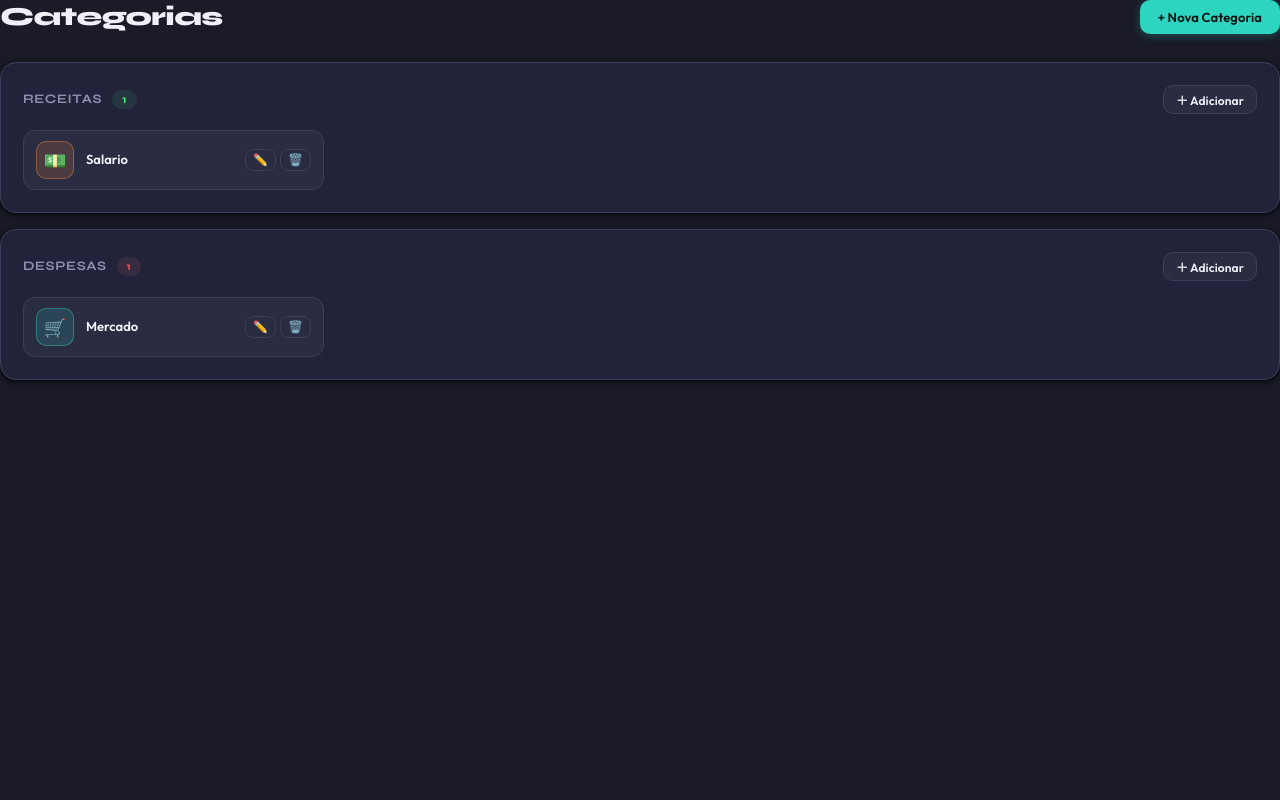
Test: CategoriesView delete confirmation › deletes only after confirming
Click the button named "Excluir Mercado": (296, 327) [280,316,311,338]
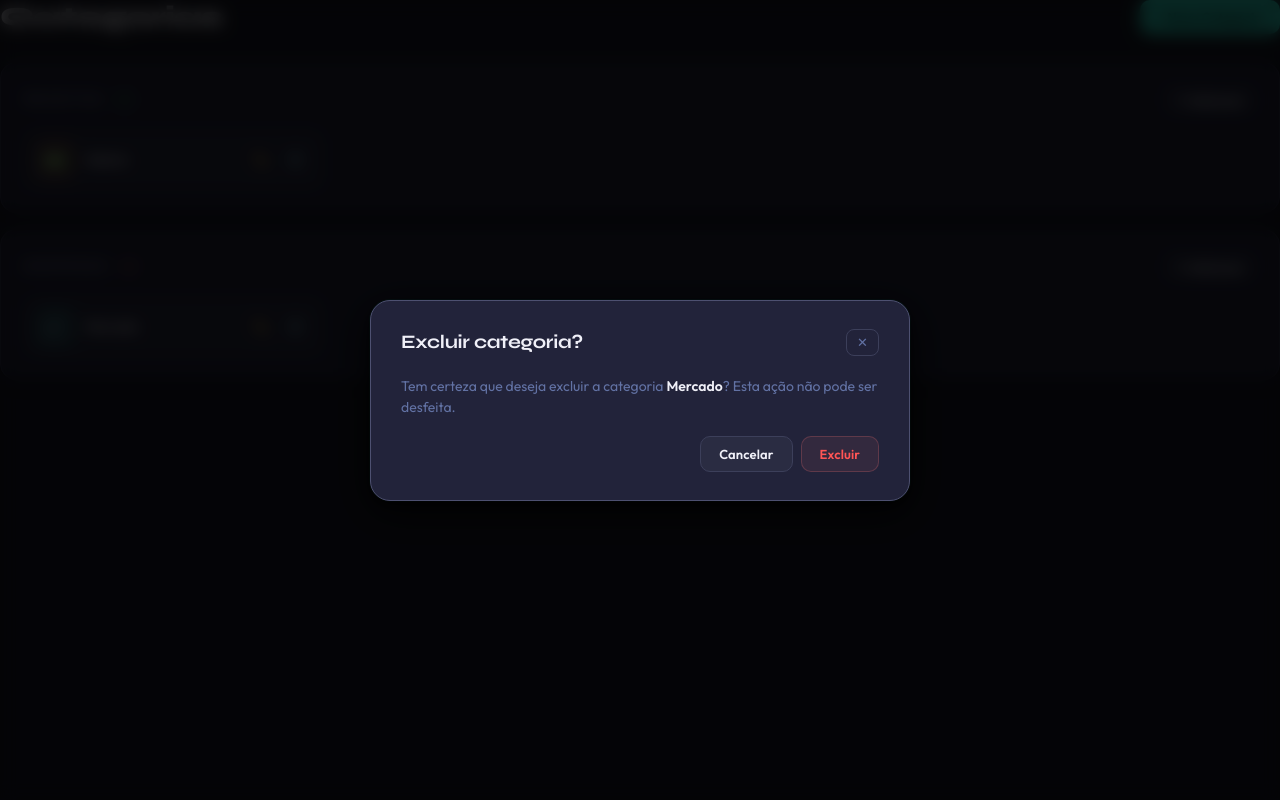
Click the button "Excluir": (840, 454) [800,436,879,472]
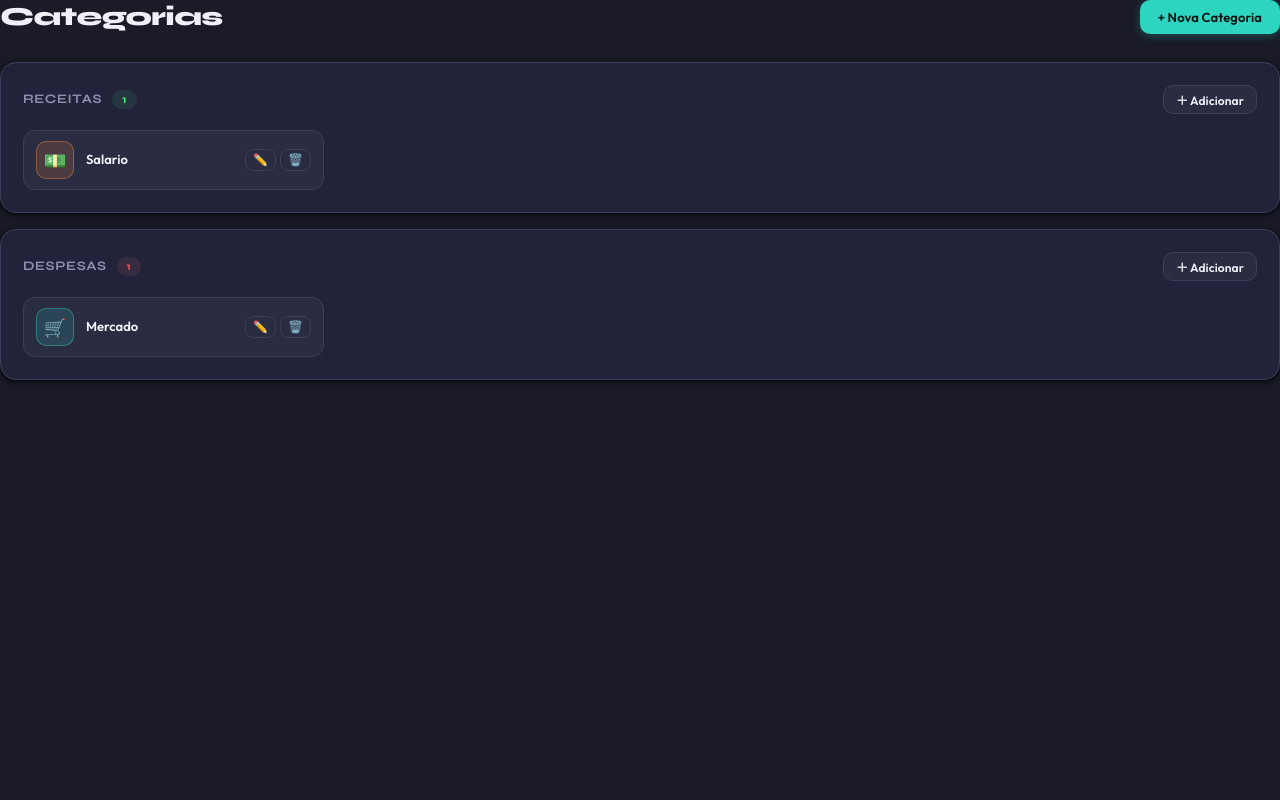
Result: the heading "Excluir categoria?" is gone
